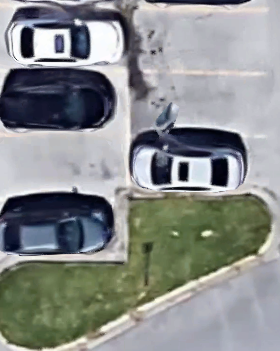Occupied: (0, 71, 128, 135), (0, 195, 125, 258), (128, 136, 265, 193), (0, 11, 128, 71)
Vacant: (128, 72, 267, 136), (128, 10, 266, 72), (0, 133, 128, 196)
